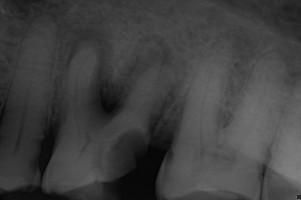Dental Caries: (65, 29, 129, 120), (209, 27, 258, 128), (133, 33, 174, 63)
Furcation Involvement: (277, 41, 301, 88)
